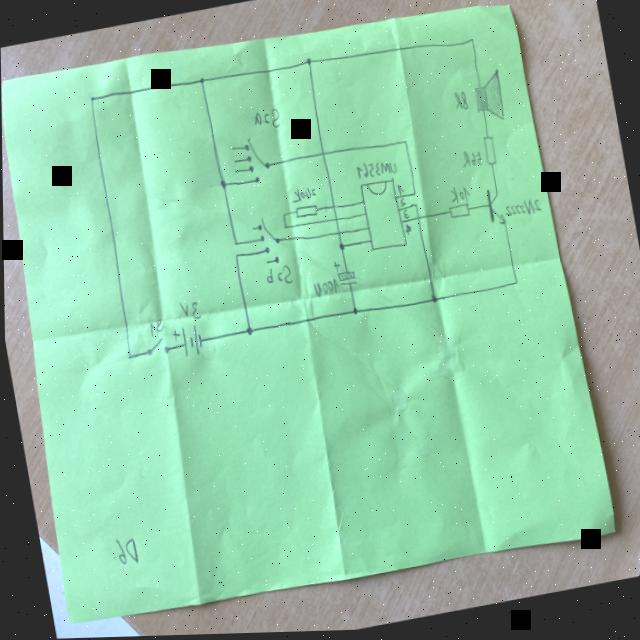capacitor: (329, 258, 358, 293)
crossover: (329, 203, 337, 212), (318, 150, 325, 159), (334, 230, 341, 239), (413, 215, 420, 224), (331, 217, 338, 224)
junction: (466, 36, 476, 48), (196, 75, 206, 86), (409, 201, 418, 213), (303, 57, 312, 68), (243, 325, 252, 336), (123, 351, 132, 362), (350, 307, 358, 318), (218, 179, 226, 190), (336, 243, 344, 253), (429, 296, 436, 306), (88, 93, 95, 103), (409, 190, 416, 200), (511, 280, 518, 289), (401, 139, 408, 148), (232, 240, 238, 247), (282, 224, 288, 231), (280, 211, 285, 219), (233, 253, 238, 260)
resistor: (444, 202, 472, 225), (480, 136, 498, 169), (292, 203, 318, 221)
source: (166, 322, 204, 364)
switch: (226, 134, 272, 192), (246, 211, 283, 268), (143, 335, 171, 360)
text: (353, 158, 397, 183), (502, 199, 540, 221), (250, 108, 281, 134), (263, 264, 292, 289), (310, 278, 339, 300), (457, 148, 483, 172), (176, 297, 199, 322), (288, 186, 316, 205), (447, 186, 470, 208), (451, 91, 469, 114), (144, 316, 163, 337), (399, 210, 411, 223), (396, 198, 408, 211), (402, 224, 412, 237), (394, 185, 404, 198)
transistor: (480, 187, 508, 231)
